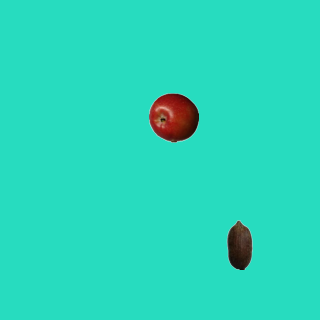Apple Braeburn: (148, 92, 198, 142)
Nut Pecan: (214, 219, 264, 269)
